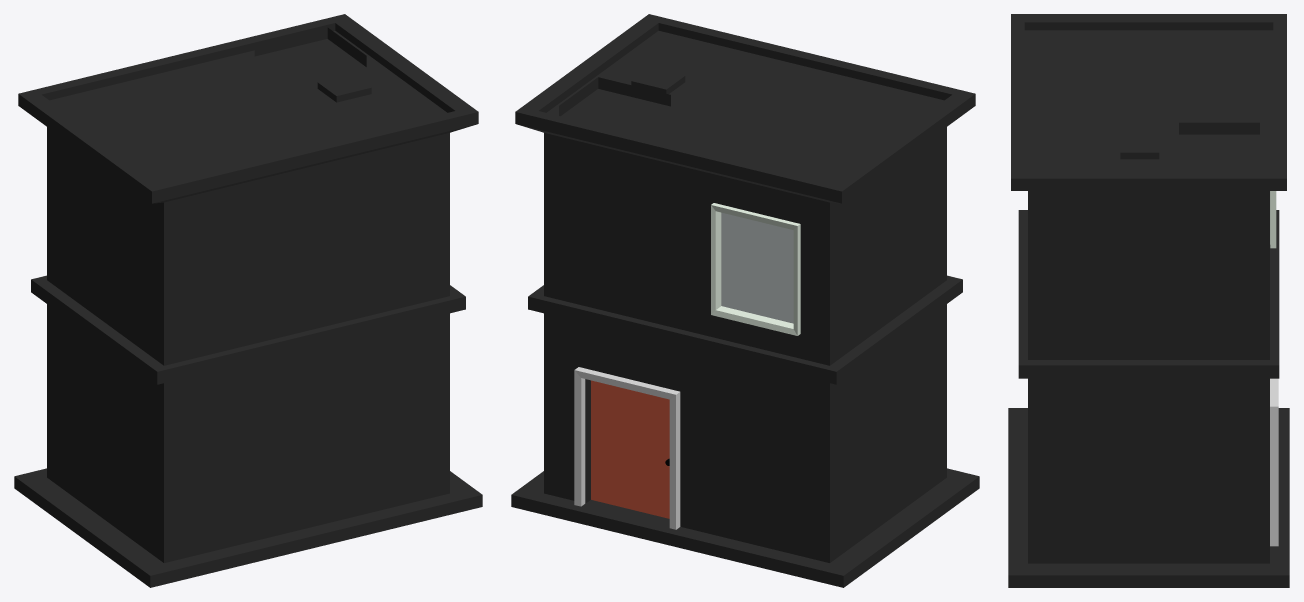
File: rumah.fbx
The picture shows the model from 3 angles, left to right: view 1: azimuth 30°, elevation 25°; view 2: azimuth 150°, elevation 25°; view 3: azimuth 270°, elevation 25°; orthographic projection. The views are drawn at different scales.
Parts seen in each view (by area): view 1: Cube; view 2: Cube; view 3: Cube.
Boxes of the visible parts, box(x1,y1,x2,y2) form: Cube: box(14, 14, 482, 587); Cube: box(511, 14, 979, 587); Cube: box(1008, 14, 1289, 587).
Bounding box in the file's own units: 11777 × 13502 × 8349.
